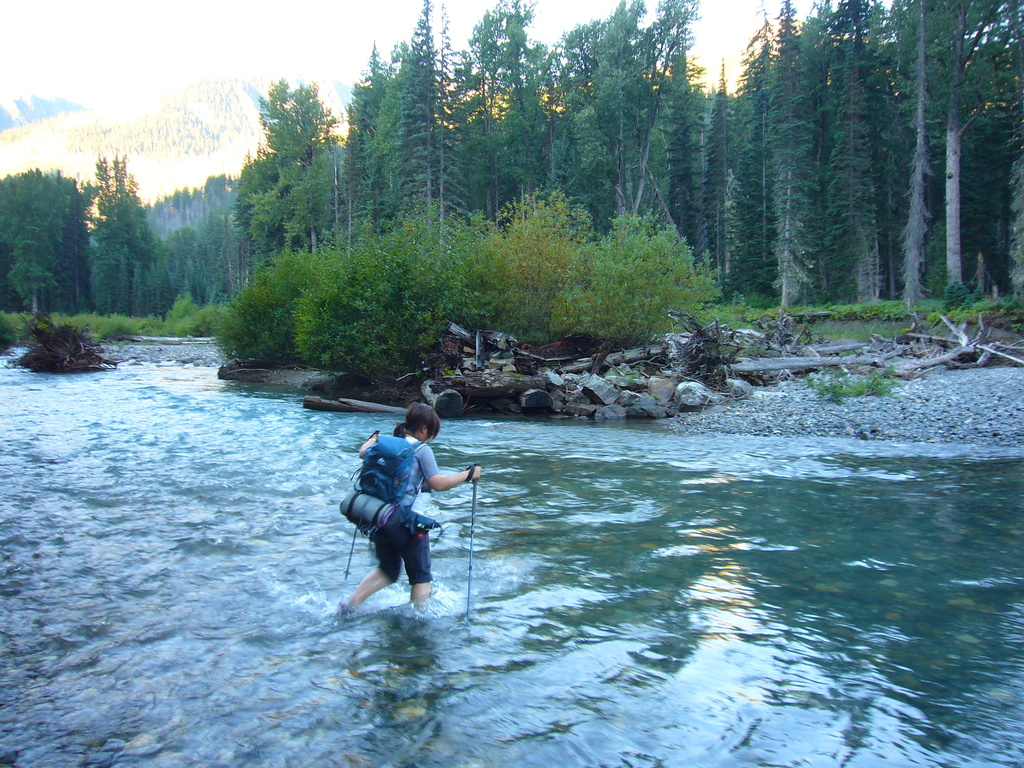Person: (337, 401, 482, 616)
